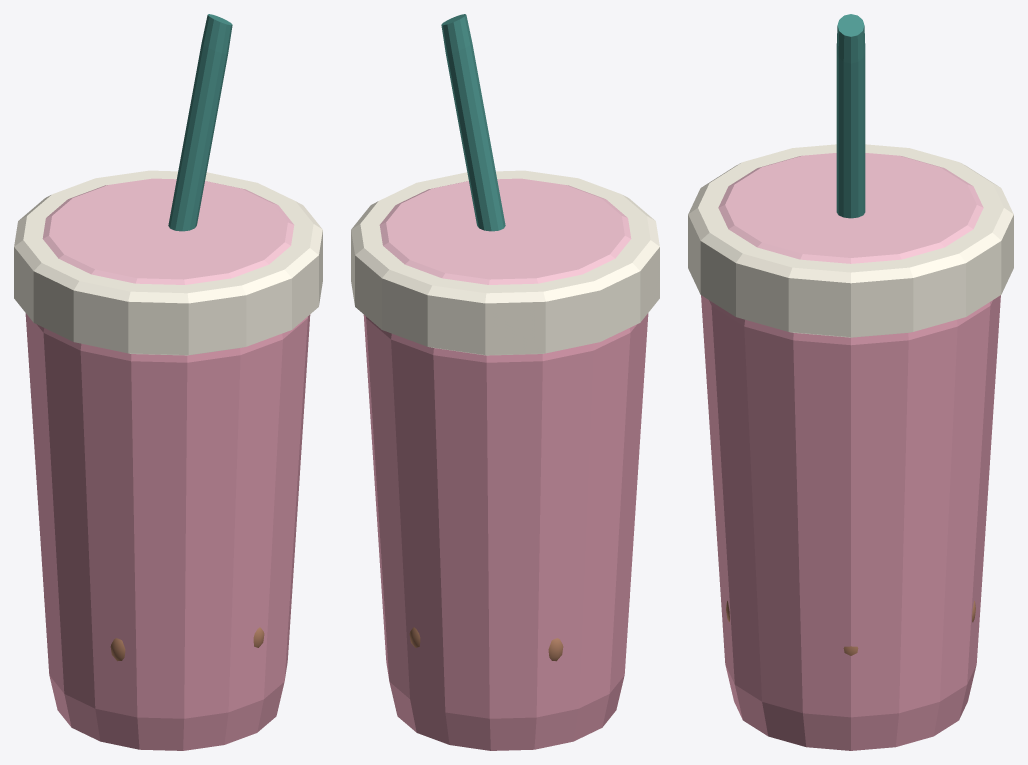
The model's file is milk_tea_cup_2.glb.
The picture shows the model from 3 angles, left to right: view 1: azimuth 30°, elevation 25°; view 2: azimuth 150°, elevation 25°; view 3: azimuth 270°, elevation 25°; orthographic projection. The views are drawn at different scales.
Visible parts, largest first — view 1: cup, lid, model, straw; view 2: cup, lid, model, straw; view 3: cup, lid, model, straw.
Boxes of the visible parts, x1,y1,x2,y2 form: cup: (25,313,310,750); lid: (14,170,322,355); model: (42,178,294,661); straw: (168,14,232,231); cup: (363,313,648,750); lid: (351,170,659,355); model: (379,178,631,661); straw: (441,14,505,231); cup: (701,295,1000,750); lid: (688,144,1013,337); model: (718,153,983,655); straw: (836,14,865,218).
Size of the model in its own units: 0.2 by 0.48 by 0.2.
